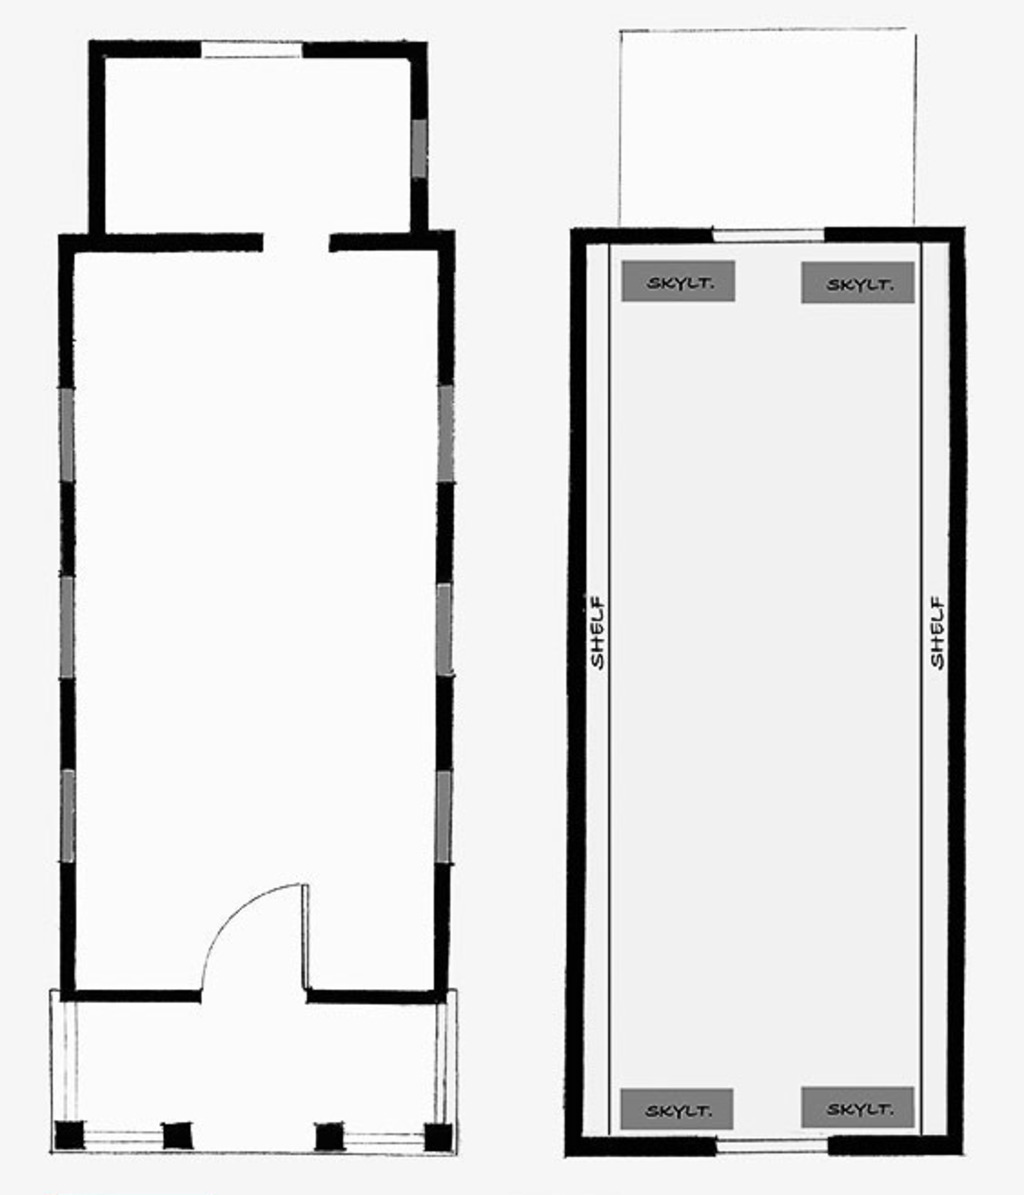door: (187, 859, 325, 997)
window: (200, 30, 305, 62), (718, 222, 818, 242)
